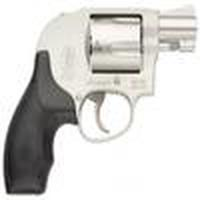gun: (4, 5, 197, 185)
